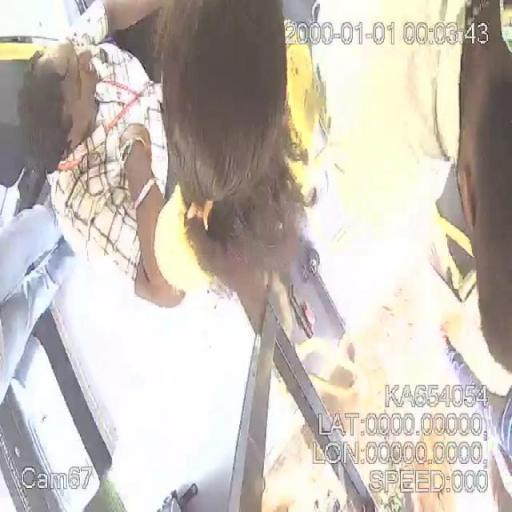persona: (314, 9, 512, 369), (18, 2, 188, 315), (163, 0, 321, 286)
